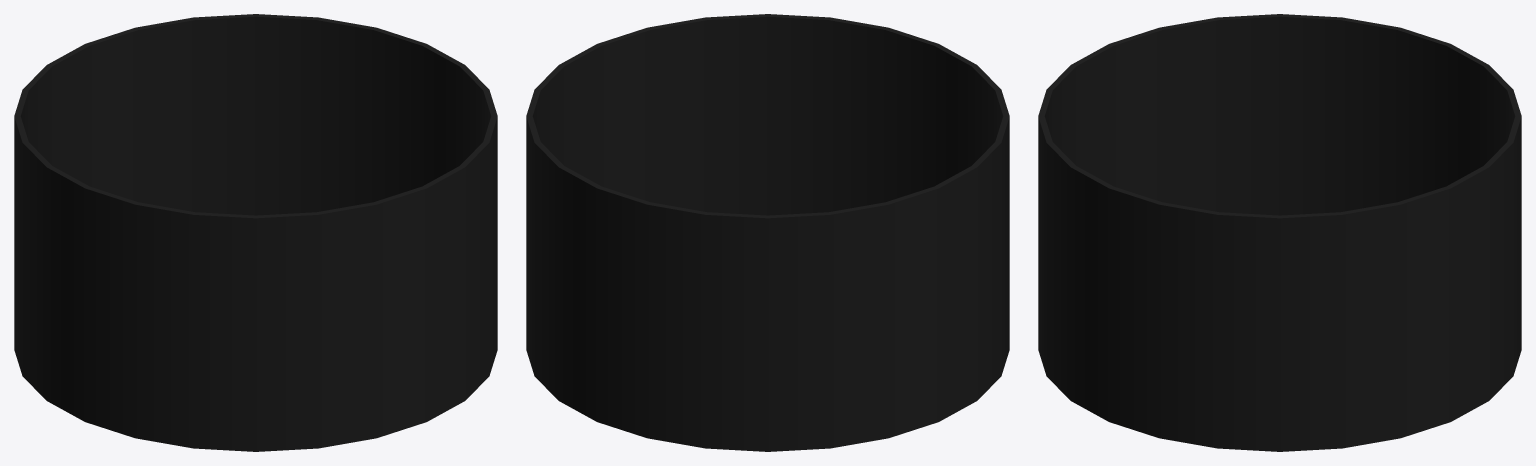
File: aquarius_engine_mount_s1p5_1_fairing2.obj
3 views of the same model, side by side, from view 1: azimuth 30°, elevation 25°; view 2: azimuth 150°, elevation 25°; view 3: azimuth 270°, elevation 25° (orthographic).
Parts seen in each view (by area): view 1: fairing2; view 2: fairing2; view 3: fairing2.
Boxes of the visible parts, left/top/right/bottom form: fairing2: left=14, top=14, right=497, bottom=451; fairing2: left=526, top=14, right=1009, bottom=451; fairing2: left=1038, top=14, right=1521, bottom=451.
Size of the model in its own units: 1.88 by 1 by 1.88.
